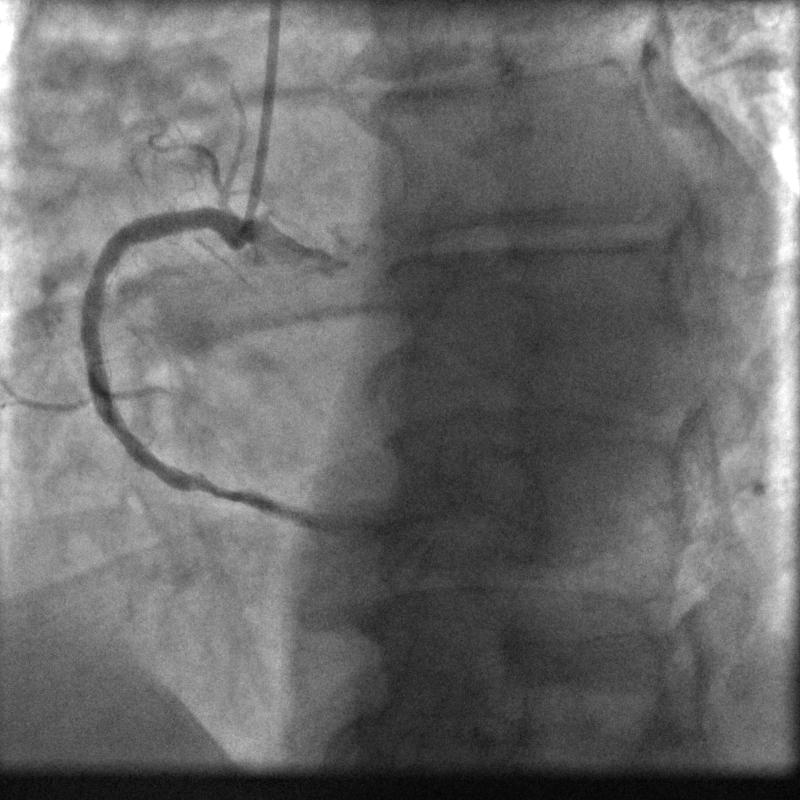Stenosis: (184, 467, 247, 507)
